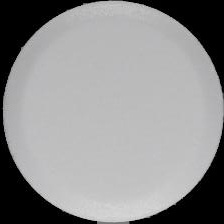49884-066: (0, 0, 224, 224)
